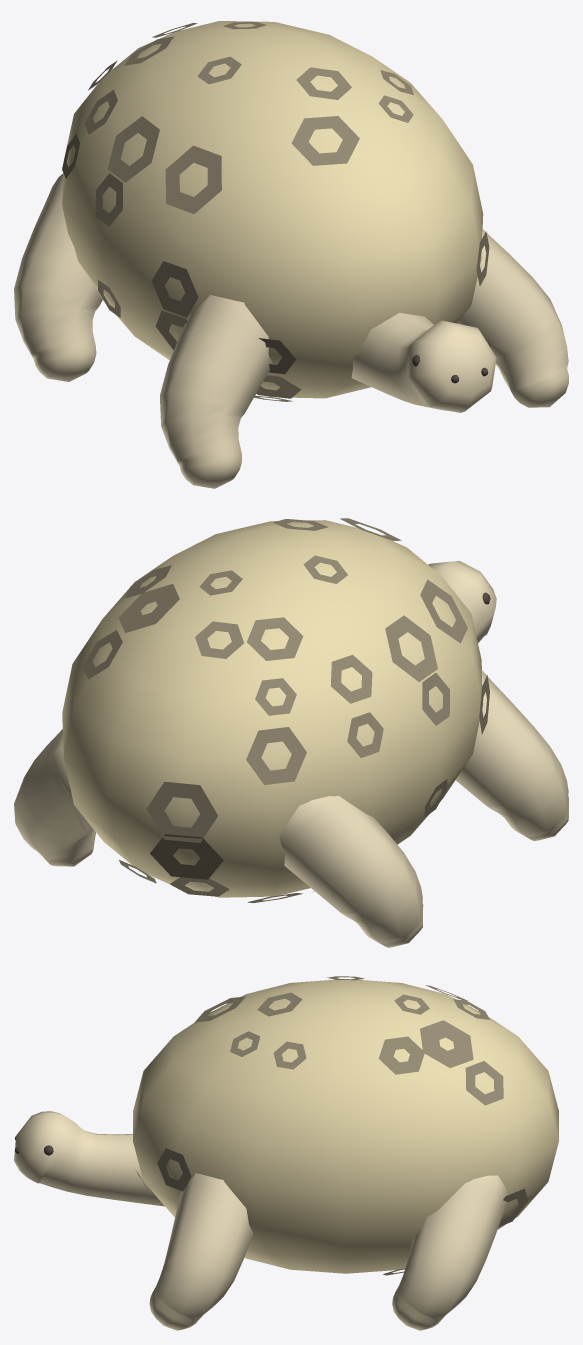
The model's file is savanna-wildlife-leopard-tortoise-f288829e__6558.glb.
3 views of the same model, one above another, from view 1: azimuth 30°, elevation 25°; view 2: azimuth 150°, elevation 25°; view 3: azimuth 270°, elevation 25° (orthographic). The views are drawn at different scales.
Parts seen in each view (by area): view 1: leopard-tortoise; view 2: leopard-tortoise; view 3: leopard-tortoise.
Part boxes in pixels (x1,y1,x2,y2): leopard-tortoise: [14, 21, 568, 488]; leopard-tortoise: [14, 518, 568, 947]; leopard-tortoise: [14, 976, 558, 1330].
Bounding box in the file's own units: 0.626 × 0.486 × 0.9149.
